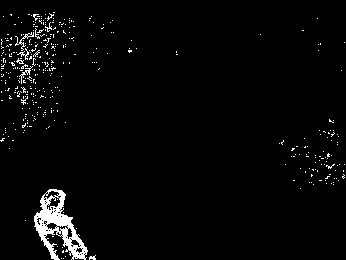person: (31, 185, 97, 260)
